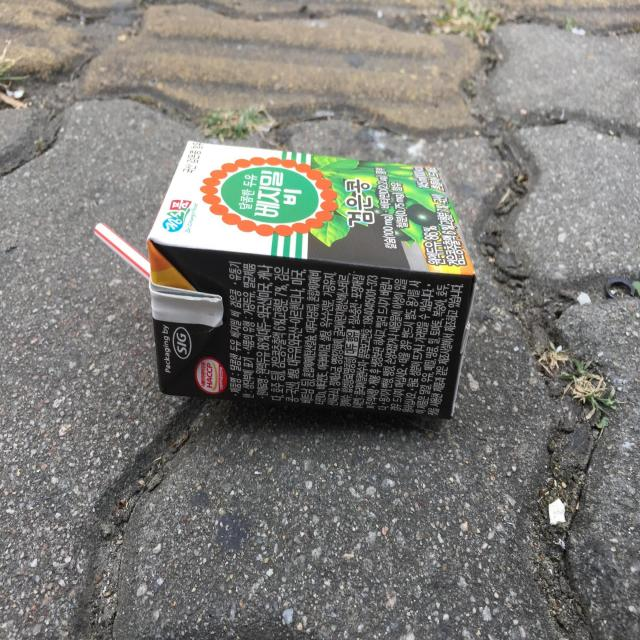paperpack: (147, 140, 476, 418)
